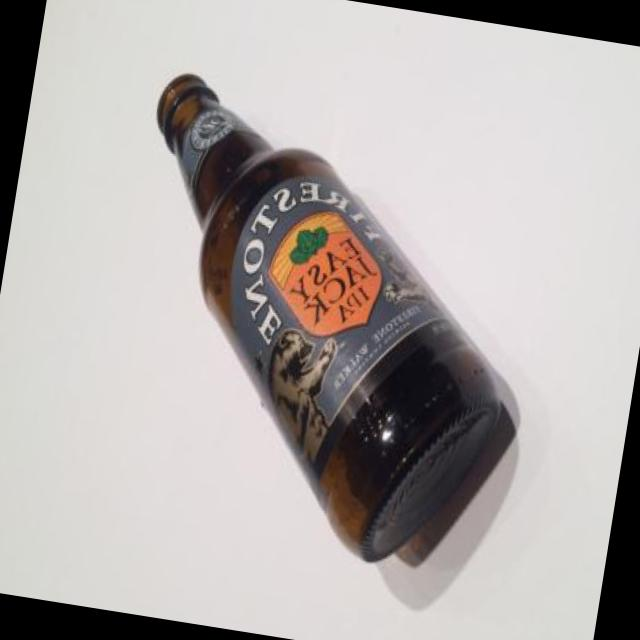chai_thuy_tinh: (158, 74, 517, 567)
